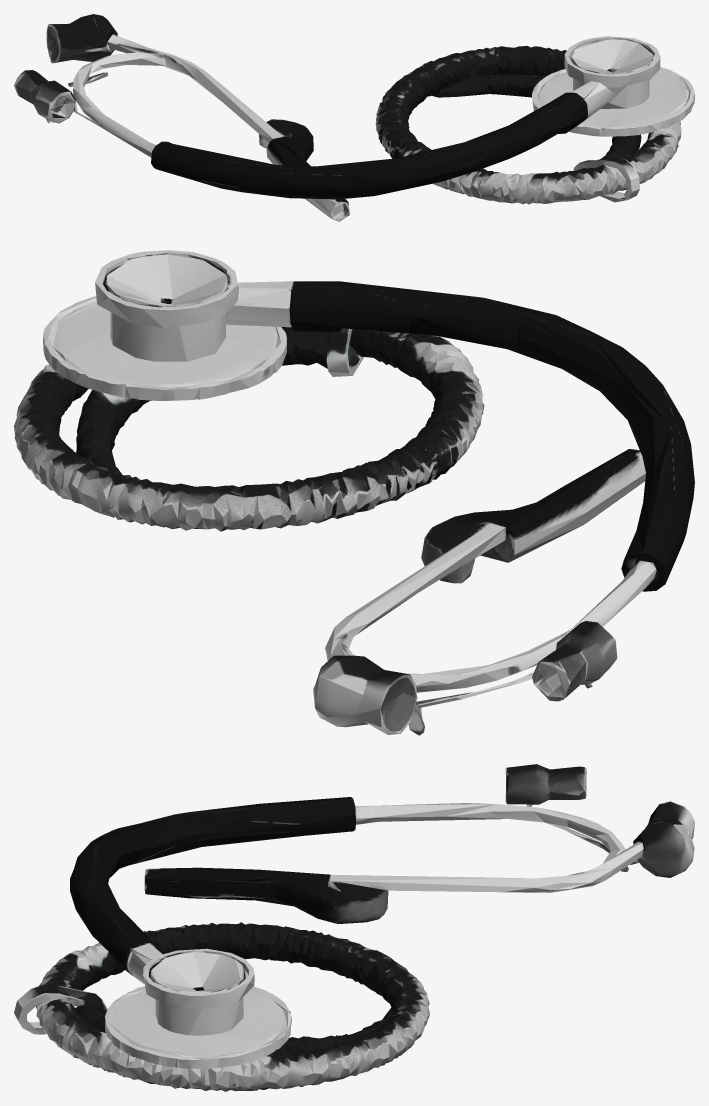
Rendered from fonendoscopio_N.glb.
3 views of the same model, one above another, from view 1: azimuth 30°, elevation 25°; view 2: azimuth 150°, elevation 25°; view 3: azimuth 270°, elevation 25° (orthographic). The views are drawn at different scales.
Bounding box in the file's own units: 1.9 × 0.2921 × 1.88.
1 material, 1 textured.
